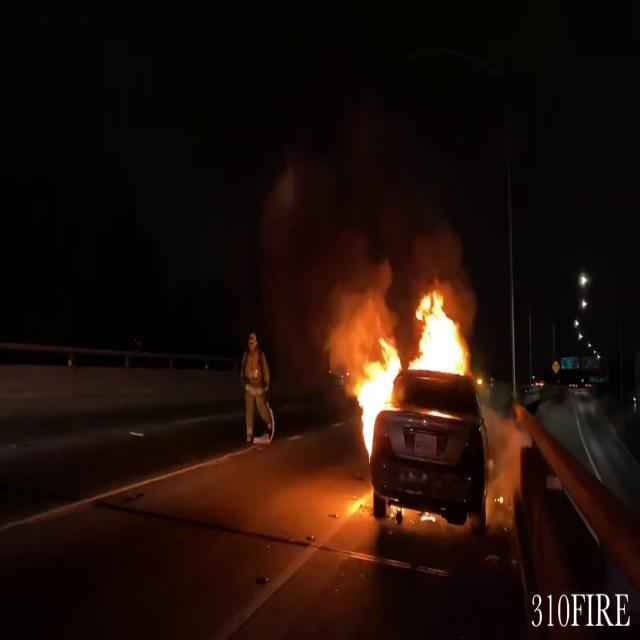Fire: (406, 283, 482, 380), (347, 335, 404, 454)
Smoke: (296, 216, 402, 366)
